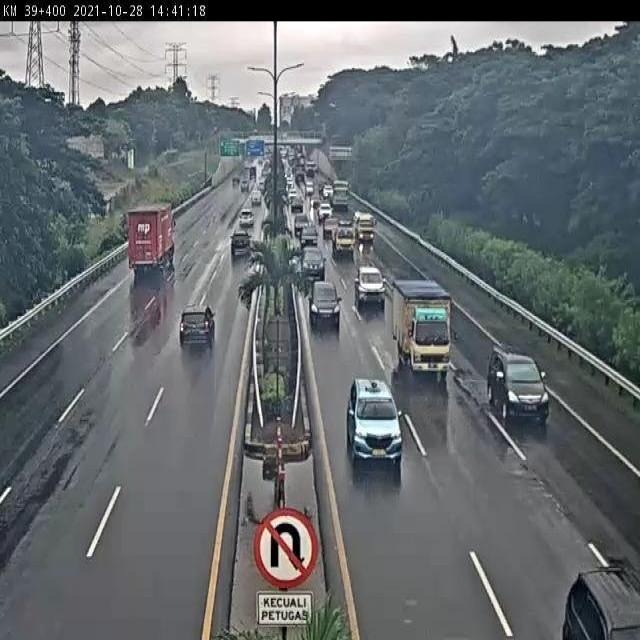car: (484, 344, 551, 427), (346, 374, 404, 466), (179, 304, 215, 352), (307, 278, 341, 326), (355, 264, 386, 308), (300, 244, 326, 277), (229, 228, 252, 256)
mid truck: (125, 202, 175, 274)
truck-m-: (391, 277, 452, 379)
